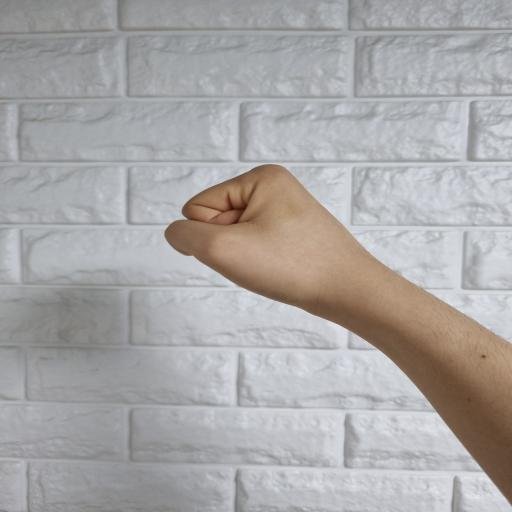Rock: (164, 166, 378, 307)
